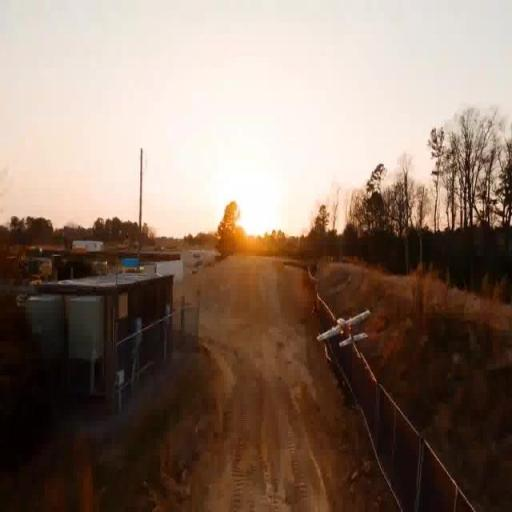uav: (309, 293, 377, 358)
